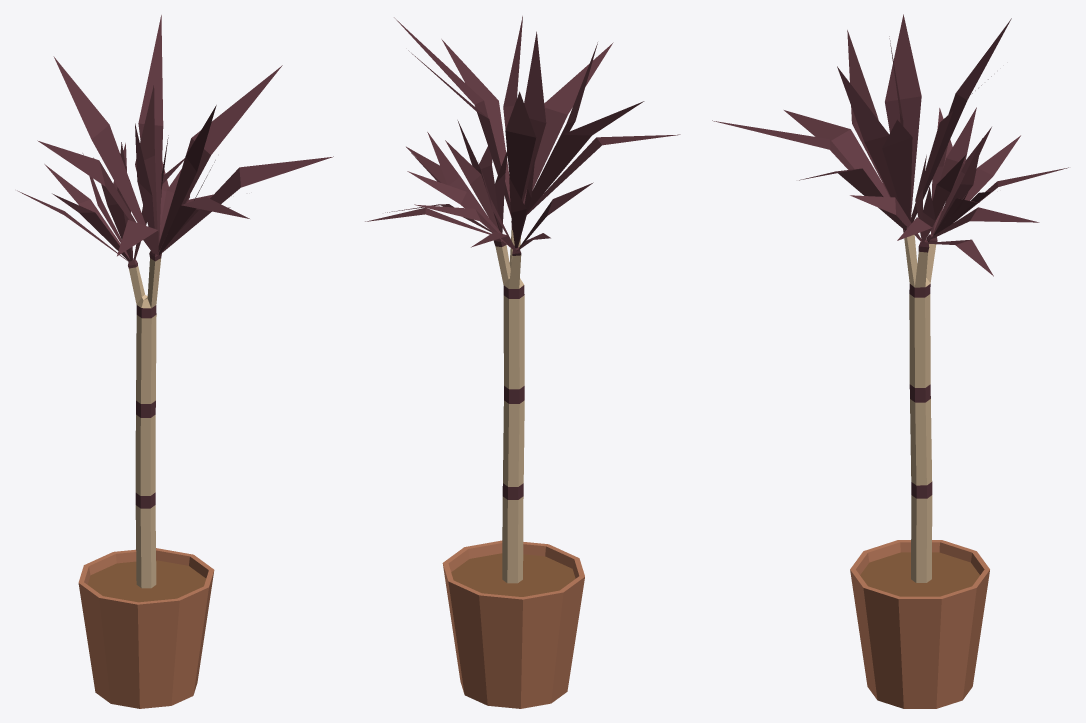
Rendered from pot-medium-circle-plant.fbx.
3 renders of one model, left to right at view 1: azimuth 30°, elevation 25°; view 2: azimuth 150°, elevation 25°; view 3: azimuth 270°, elevation 25°, orthographic. The views are drawn at different scales.
Parts seen in each view (by area): view 1: pot-medium-circle-plant; view 2: pot-medium-circle-plant; view 3: pot-medium-circle-plant.
Boxes of the visible parts, <box> form: pot-medium-circle-plant: <box>17,15,333,708</box>; pot-medium-circle-plant: <box>365,16,680,708</box>; pot-medium-circle-plant: <box>712,14,1068,708</box>.
Bounding box in the file's own units: 0.5554 × 1.35 × 0.6711.
